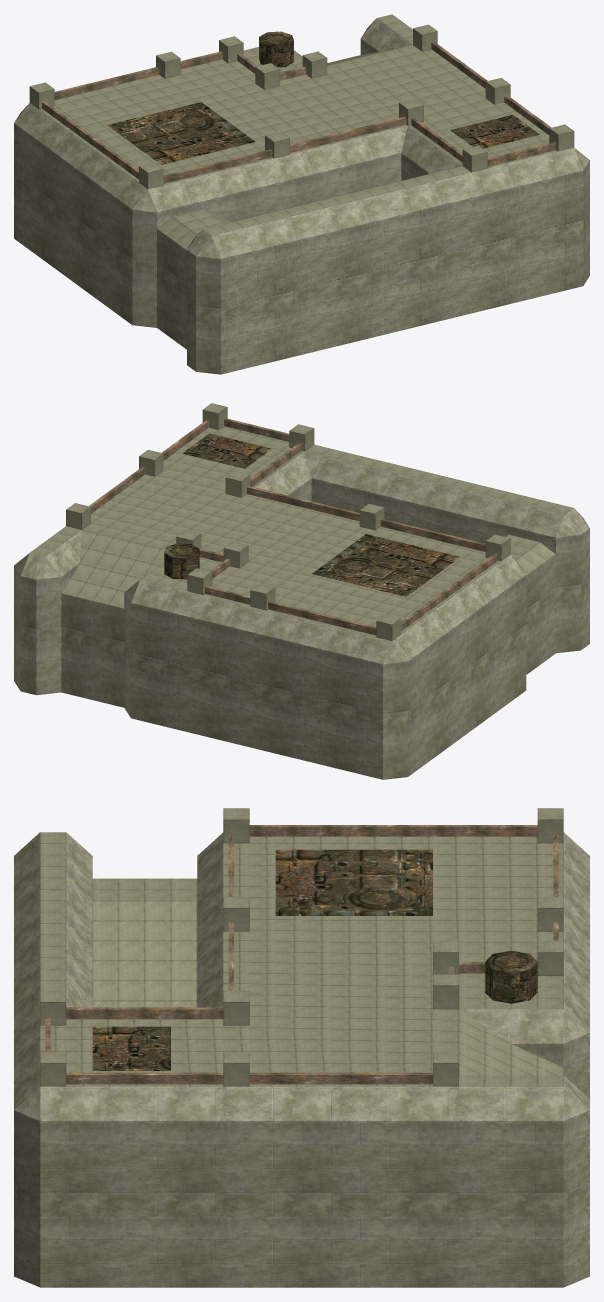
Rendered from poi_all_bunker_allum_mine_r0_mesh_l2.fbx.
3 views of the same model, one above another, from view 1: azimuth 30°, elevation 25°; view 2: azimuth 150°, elevation 25°; view 3: azimuth 270°, elevation 25° (orthographic). The views are drawn at different scales.
Parts seen in each view (by area): view 1: mesh_node; view 2: mesh_node; view 3: mesh_node.
Part boxes in pixels (x1,y1,x2,y2): mesh_node: (14, 14, 589, 374); mesh_node: (14, 403, 589, 779); mesh_node: (14, 808, 589, 1287).
Size of the model in its own units: 25 by 11.3 by 22.
